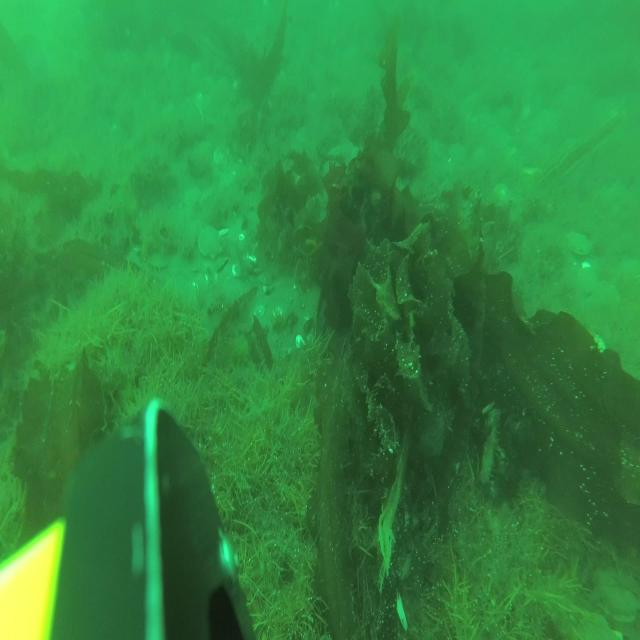scallop: (590, 554, 640, 628), (197, 225, 224, 261), (580, 610, 612, 638), (567, 227, 593, 259), (183, 183, 203, 208), (213, 144, 232, 168), (151, 250, 172, 270)
